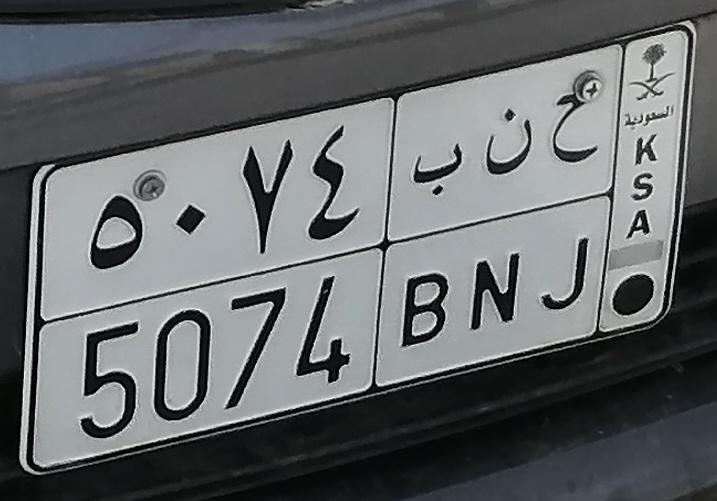0: (148, 200, 217, 431)
4: (296, 120, 368, 389)
5: (76, 189, 145, 444)
7: (220, 137, 297, 417)
B: (397, 141, 465, 349)
J: (542, 85, 605, 316)
N: (469, 106, 539, 340)
